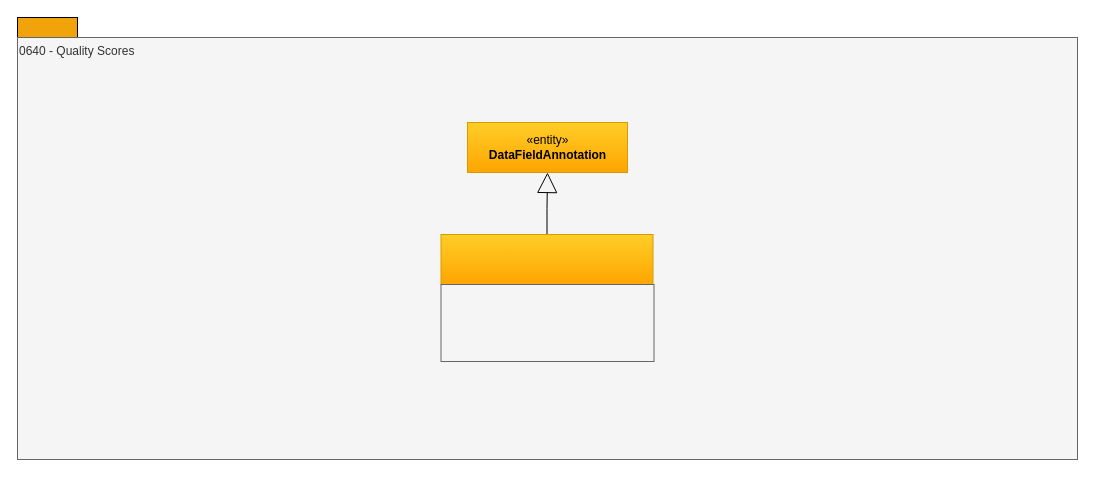
This 1095x477 diagram has some shape labels left out. The centre of each missing label's shape, as x and y in pixels:
"qualityDimension : string qualityDescription : string qualityScore : int" belongs at (547,323).
"«entity» QualityAnnotation" belongs at (546,259).
